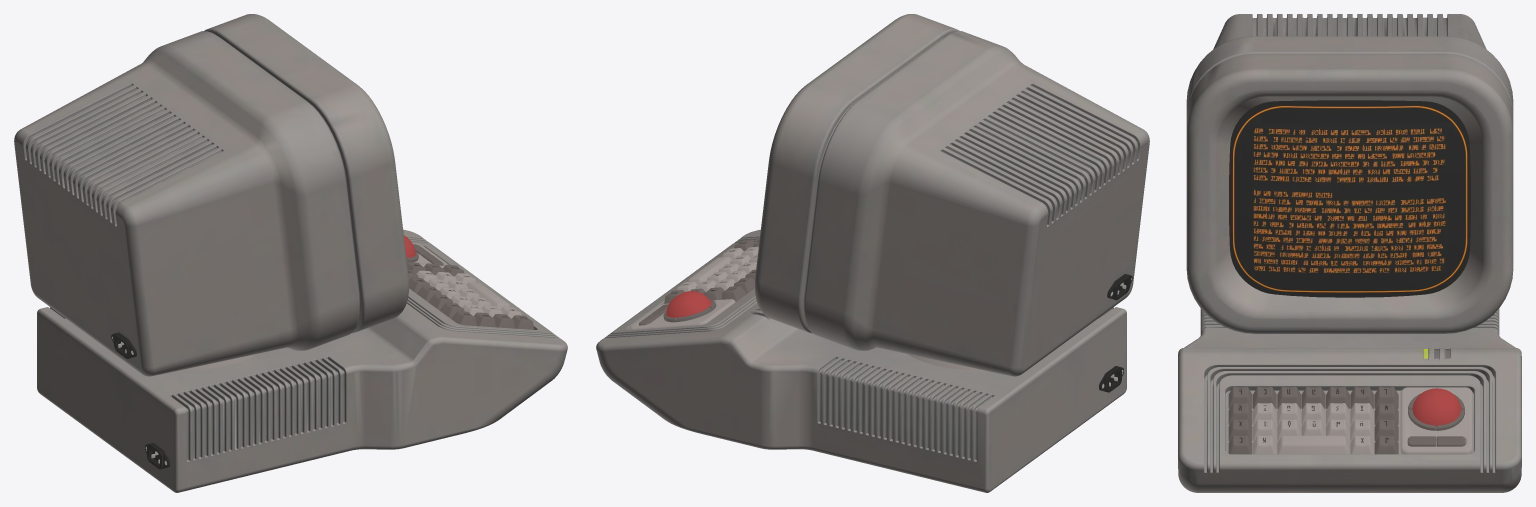
The model's file is retro-computer.glb.
The picture shows the model from 3 angles, left to right: view 1: azimuth 30°, elevation 25°; view 2: azimuth 150°, elevation 25°; view 3: azimuth 270°, elevation 25°; orthographic projection. The views are drawn at different scales.
Parts seen in each view (by area): view 1: defaultMaterial (×2); view 2: defaultMaterial (×2); view 3: defaultMaterial (×2).
Boxes of the visible parts, x1,y1,x2,y2 form: defaultMaterial (×2): [14, 14, 567, 492]; defaultMaterial (×2): [596, 14, 1149, 492]; defaultMaterial (×2): [1178, 14, 1521, 492].
Bounding box in the file's own units: 2 × 1.55 × 1.32.
2 materials, 2 textured.
